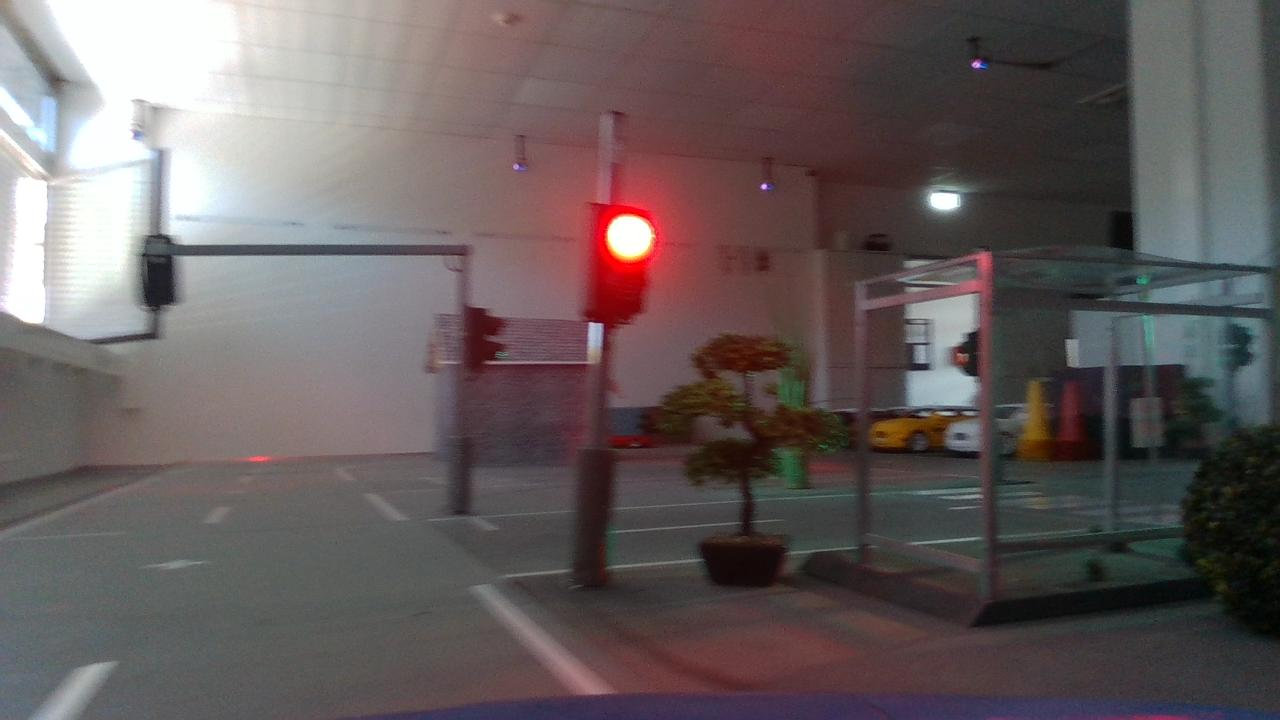traffic_light_red: (567, 185, 665, 338)
